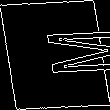M_W: (7, 30, 103, 80)
